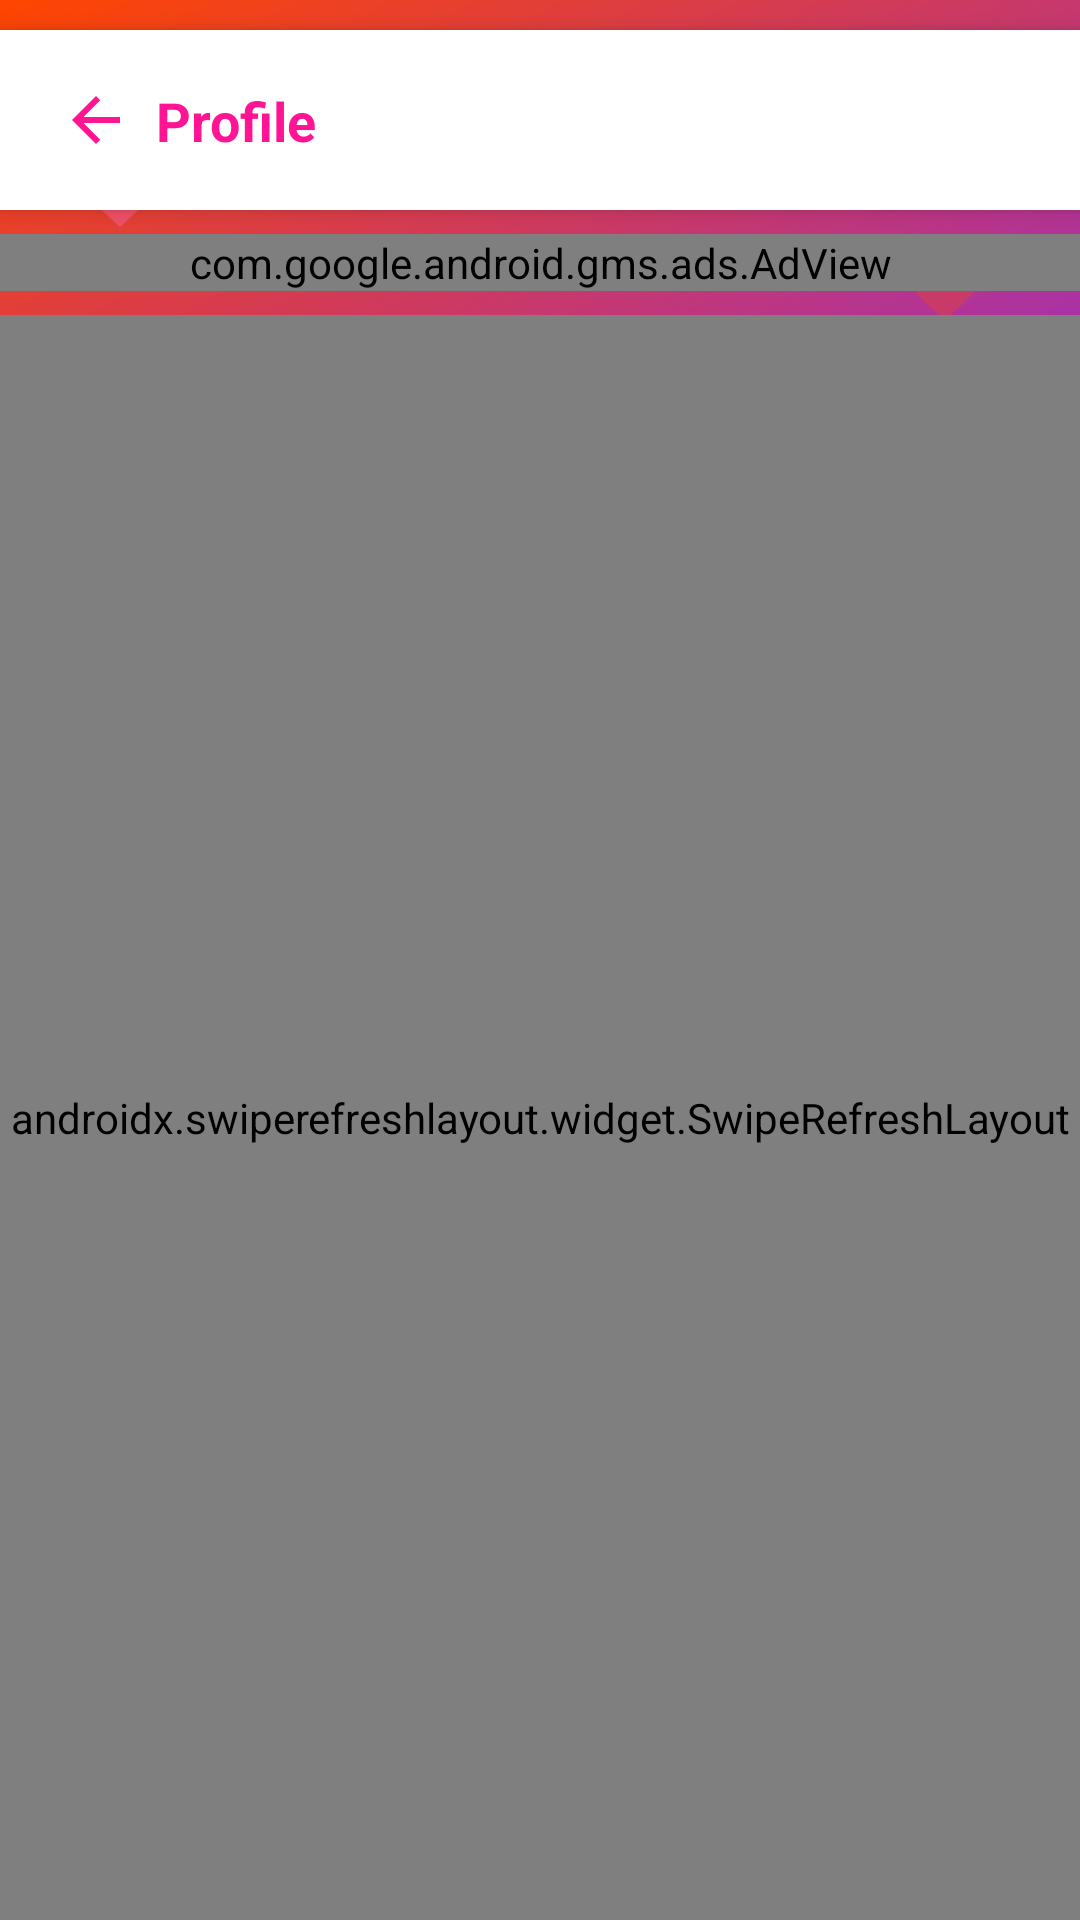

Icons on this 1080*1920 Android screen, each with the point to tap as point (x, y):
back: point (96, 120)
